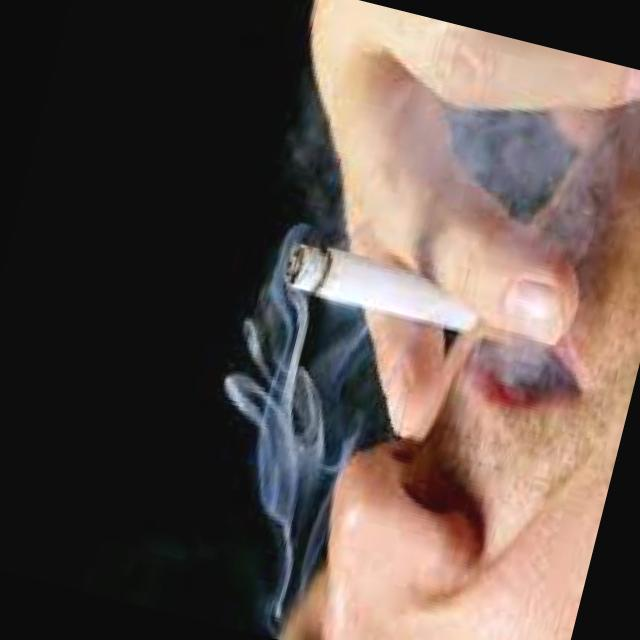smoke: (279, 228, 542, 356)
